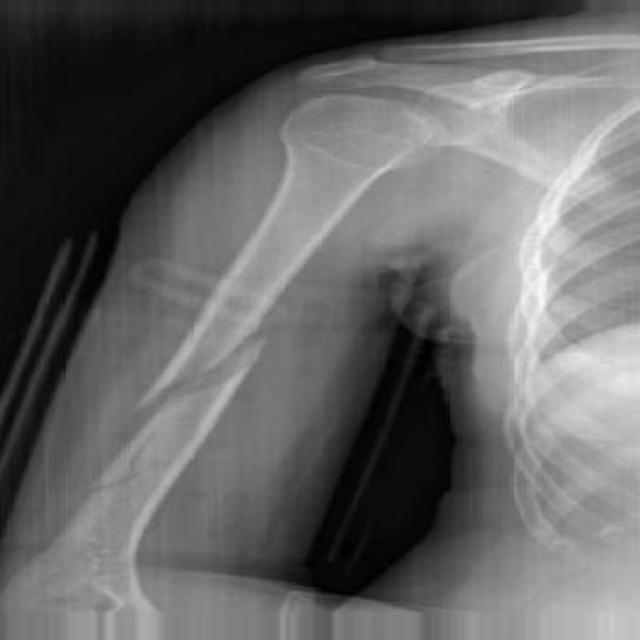Fracture: (112, 324, 286, 414), (77, 437, 197, 500)
